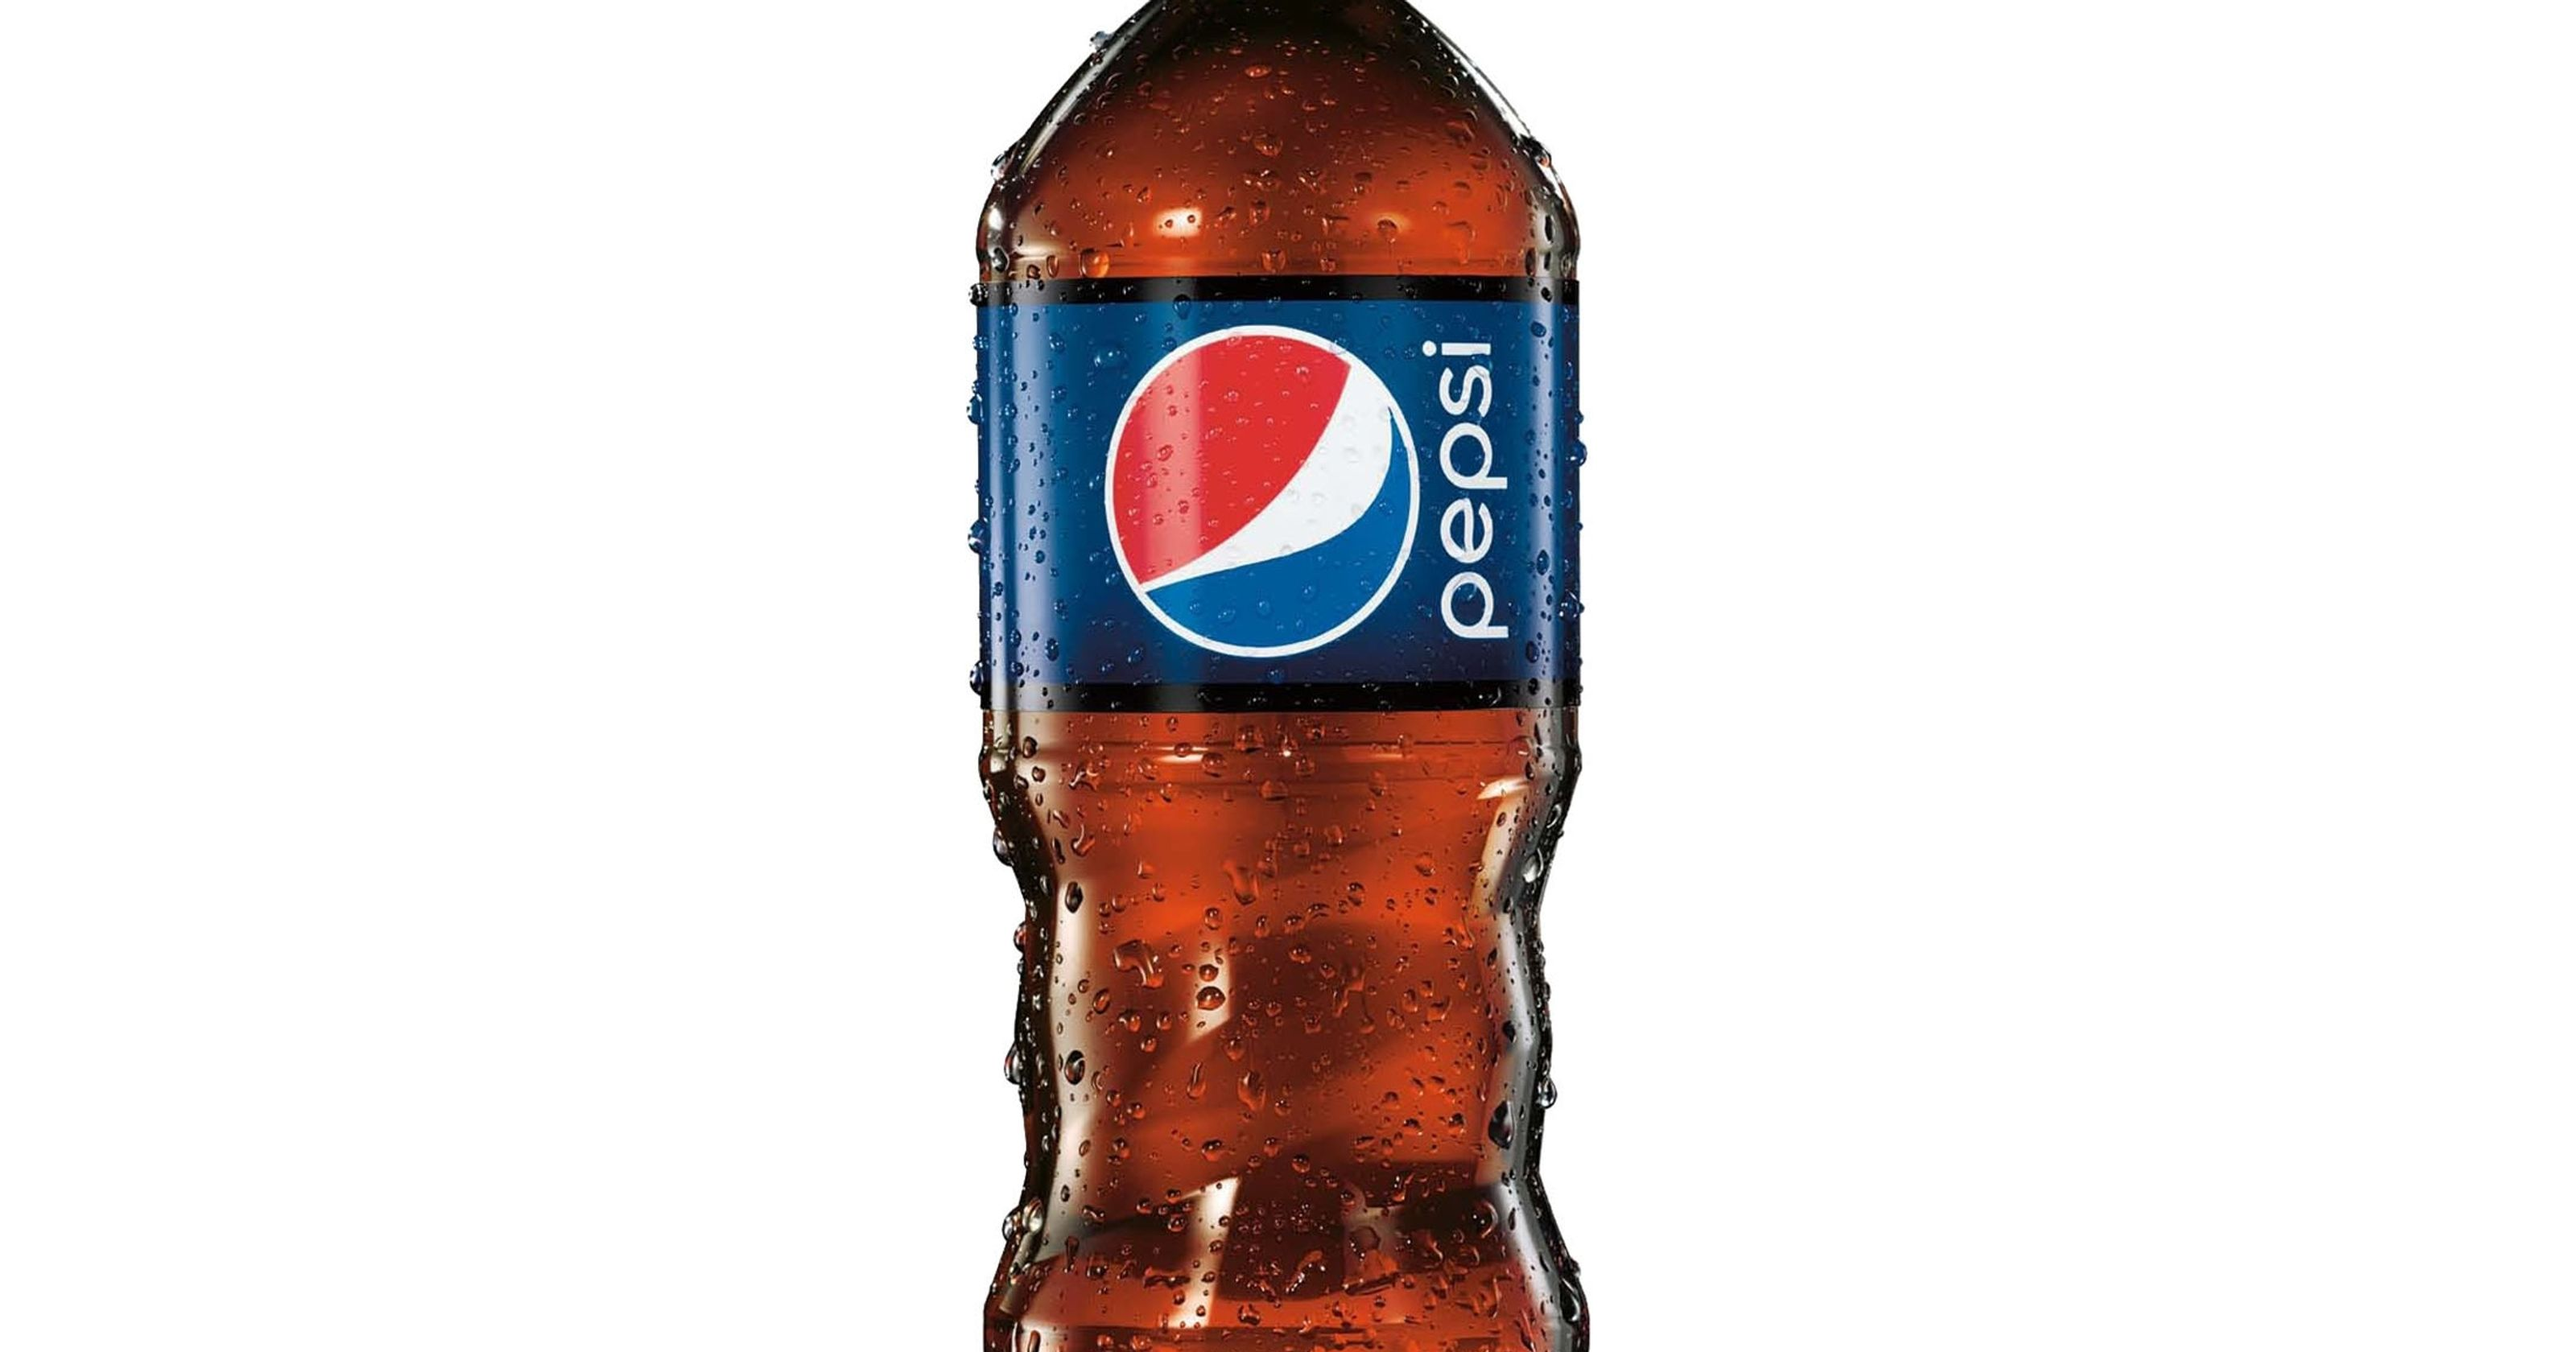pepsi: (1095, 324, 1419, 664), (1095, 330, 1419, 664)
